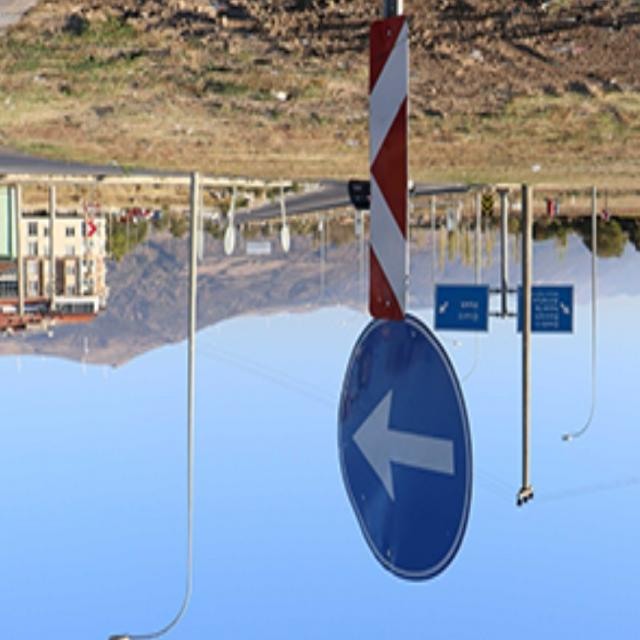Turn Left: (337, 305, 477, 583)
